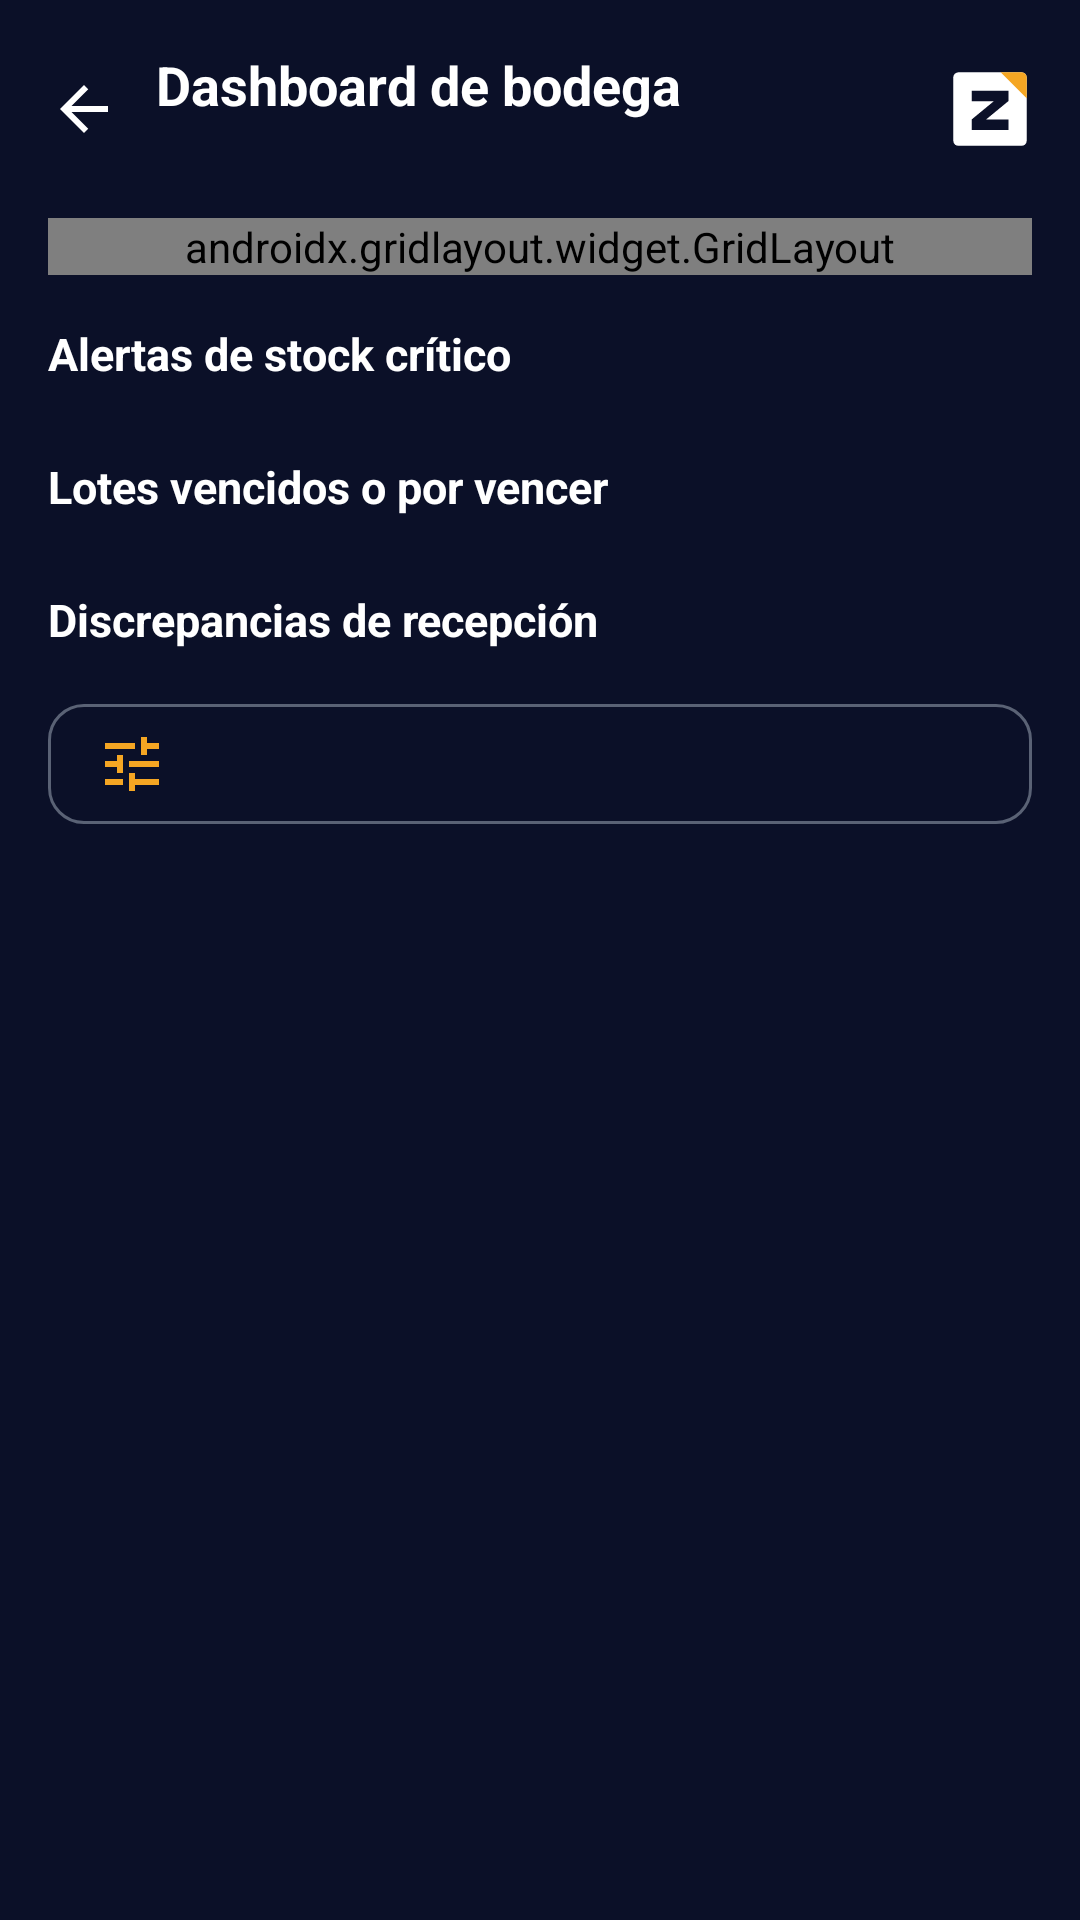

Icons on this 1080px×1920px Android screen, each with its box as BBox(x1, y1, x2, y2):
Volver: BBox(60, 85, 108, 133)
